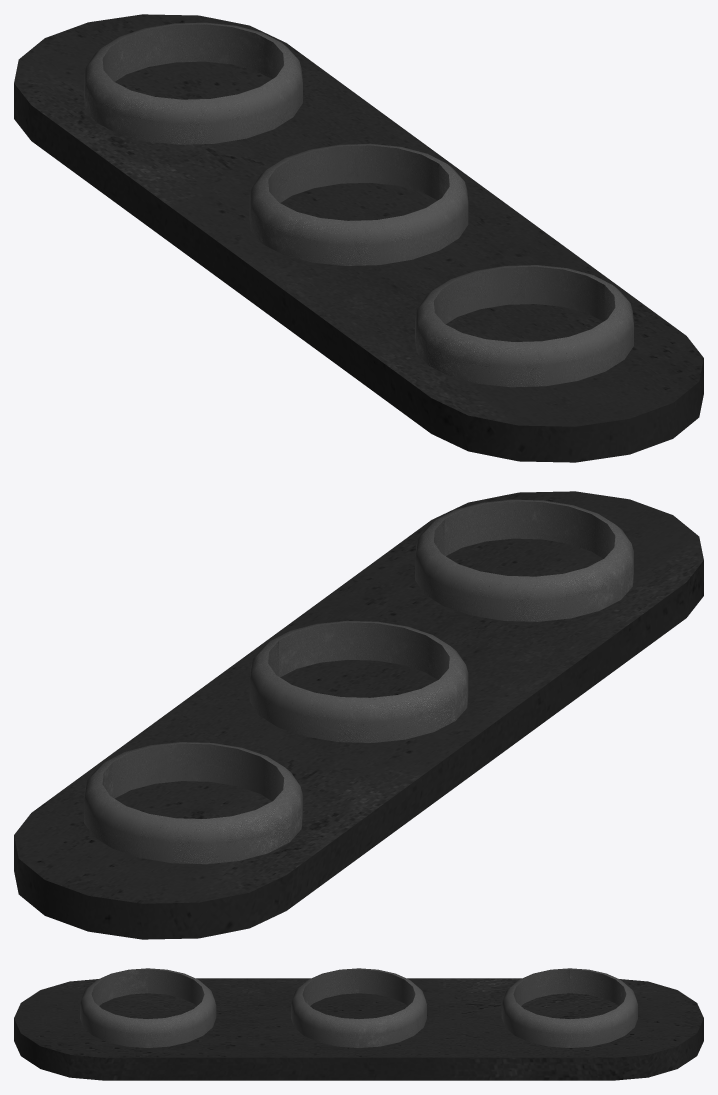
The model's file is F_RangeSelect_Frame_01 (2).fbx.
The picture shows the model from 3 angles, top to bottom: view 1: azimuth 30°, elevation 25°; view 2: azimuth 150°, elevation 25°; view 3: azimuth 270°, elevation 25°; orthographic projection. The views are drawn at different scales.
Parts seen in each view (by area): view 1: F_RangeSelect_Frame_01; view 2: F_RangeSelect_Frame_01; view 3: F_RangeSelect_Frame_01.
Part boxes in pixels (x1,y1,x2,y2): F_RangeSelect_Frame_01: [14, 14, 703, 462]; F_RangeSelect_Frame_01: [14, 491, 703, 939]; F_RangeSelect_Frame_01: [14, 968, 703, 1080].
Bounding box in the file's own units: 12.48 × 3.43 × 45.89.
